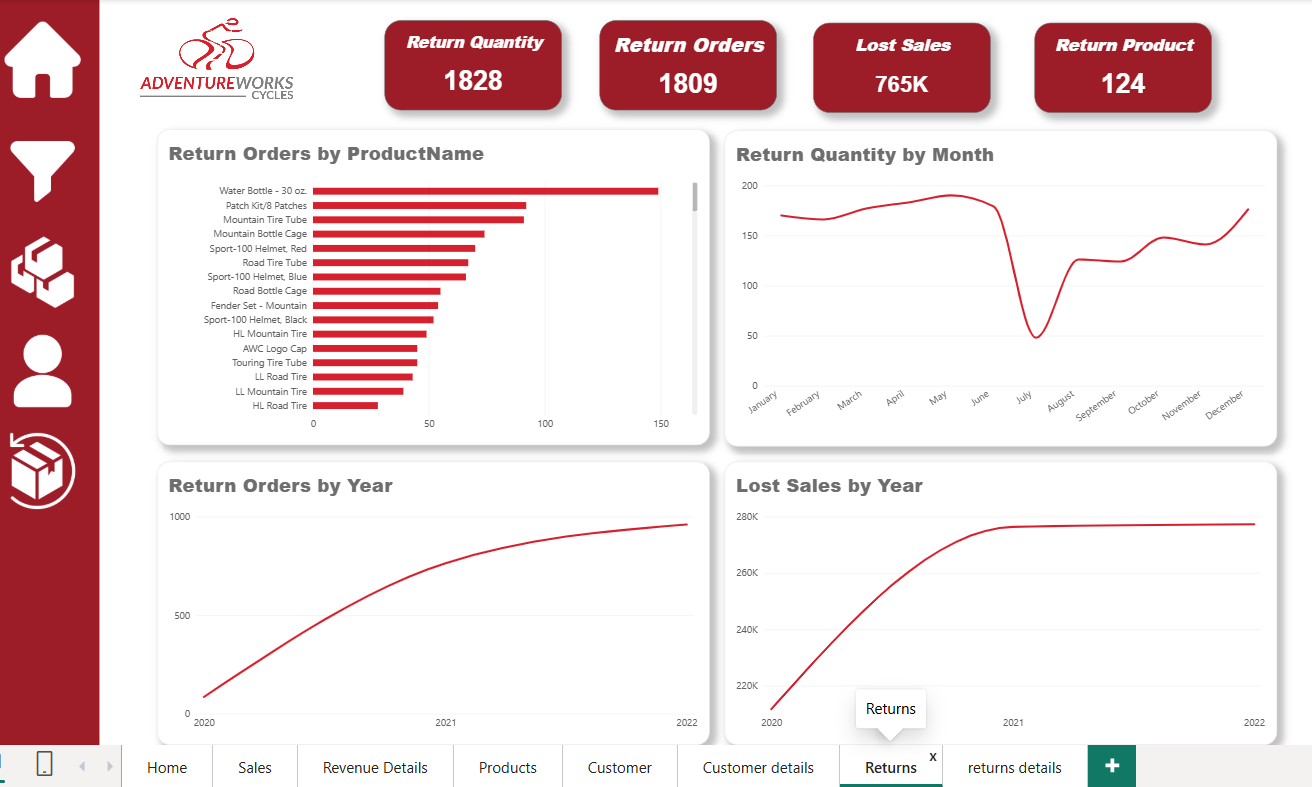

This screenshot's page, from the dashboard's own definition file:
{"tool":"powerbi","page":{"name":"Returns","canvas":[1920,1080],"ordinal":6},"visuals":[{"type":"image","box":[86.7,15,488.3,145],"z":0},{"type":"shape","box":[10,0,151.7,1080],"z":1000},{"type":"advanceCardE03760C5AB684758B56AA29F9E6C257B","title":"Return Quantity","fields":{"mainMeasure":["Measur.Return Quantity"]},"box":[575.5,30.8,256.7,130],"z":3000},{"type":"advanceCardE03760C5AB684758B56AA29F9E6C257B","title":"Return Orders","fields":{"mainMeasure":["Measur.Return Orders"]},"box":[886.7,30.8,256.7,130],"z":4000},{"type":"advanceCardE03760C5AB684758B56AA29F9E6C257B","title":"Lost Sales","fields":{"mainMeasure":["Measur.Lost Sales"]},"box":[1196.2,34.4,256.7,130],"z":5000},{"type":"advanceCardE03760C5AB684758B56AA29F9E6C257B","title":"Return Product","fields":{"mainMeasure":["Measur.Returned Products"]},"box":[1516.5,34.4,256.7,130],"z":6000},{"type":"lineChart","fields":{"Category":["Calendar.Date.Variation.Date Hierarchy.Month"],"Y":["Measur.Return Quantity"]},"box":[1067.7,190,799.9,457.8],"z":10000},{"type":"image","box":[25,26.7,110,121.7],"z":11000},{"type":"image","box":[25,186.7,110,121.7],"z":12000},{"type":"image","box":[25,335,110,121.7],"z":13000},{"type":"image","box":[25,478.3,110,121.7],"z":14000},{"type":"image","box":[25,623.3,110,121.7],"z":15000},{"type":"lineChart","fields":{"Category":["Calendar.Date.Variation.Date Hierarchy.Year"],"Y":["Measur.Lost Sales"]},"box":[1068.3,670,800,410],"z":18000},{"type":"clusteredBarChart","fields":{"Category":["Product.ProductName"],"Y":["Measur.Return Orders"]},"box":[246.1,188.2,799.9,457.8],"z":18001},{"type":"lineChart","fields":{"Category":["Calendar.Date.Variation.Date Hierarchy.Year"],"Y":["Measur.Return Quantity"]},"box":[246.1,669.6,800,410],"z":18002}]}

Visuals, with their boxes on the page's 1920x1080 design canvas (x1, y1, x2, y2). These are canvas units, not pixel positions in the 1312x787 screenshot, which may show the page scaled, cropped or inside an application window:
image: bbox=[87, 15, 575, 160]
shape: bbox=[10, 0, 162, 1080]
"Return Quantity" advanceCardE03760C5AB684758B56AA29F9E6C257B: bbox=[576, 31, 832, 161]
"Return Orders" advanceCardE03760C5AB684758B56AA29F9E6C257B: bbox=[887, 31, 1143, 161]
"Lost Sales" advanceCardE03760C5AB684758B56AA29F9E6C257B: bbox=[1196, 34, 1453, 164]
"Return Product" advanceCardE03760C5AB684758B56AA29F9E6C257B: bbox=[1516, 34, 1773, 164]
lineChart - Calendar.Date.Variation.Date Hierarchy.Month x Measur.Return Quantity: bbox=[1068, 190, 1868, 648]
image: bbox=[25, 27, 135, 148]
image: bbox=[25, 187, 135, 308]
image: bbox=[25, 335, 135, 457]
image: bbox=[25, 478, 135, 600]
image: bbox=[25, 623, 135, 745]
lineChart - Calendar.Date.Variation.Date Hierarchy.Year x Measur.Lost Sales: bbox=[1068, 670, 1868, 1080]
clusteredBarChart - Product.ProductName x Measur.Return Orders: bbox=[246, 188, 1046, 646]
lineChart - Calendar.Date.Variation.Date Hierarchy.Year x Measur.Return Quantity: bbox=[246, 670, 1046, 1080]
